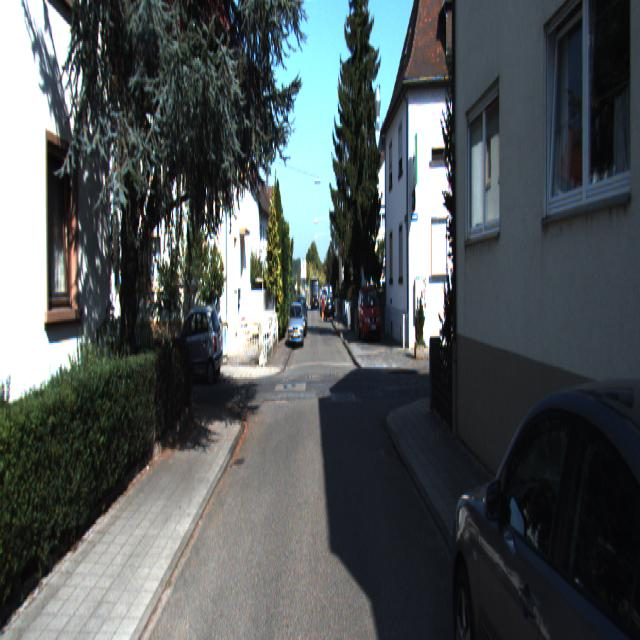Car: (444, 328, 640, 638), (164, 300, 220, 382), (357, 285, 381, 345), (289, 303, 303, 349)
